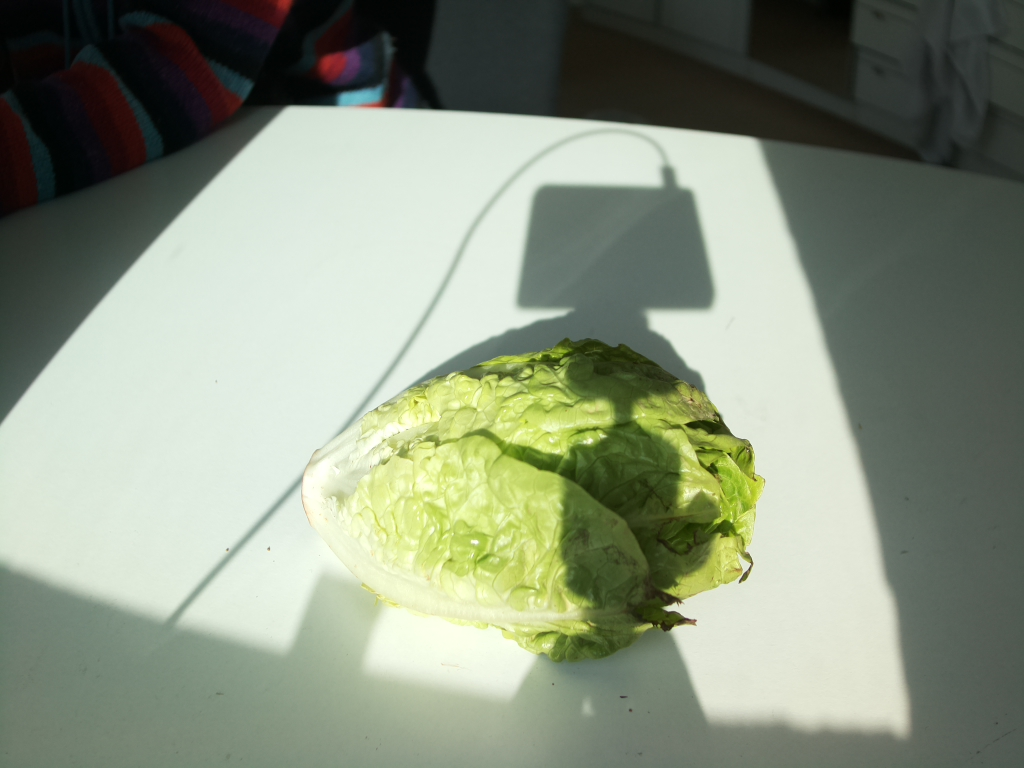salad: (301, 338, 759, 670)
